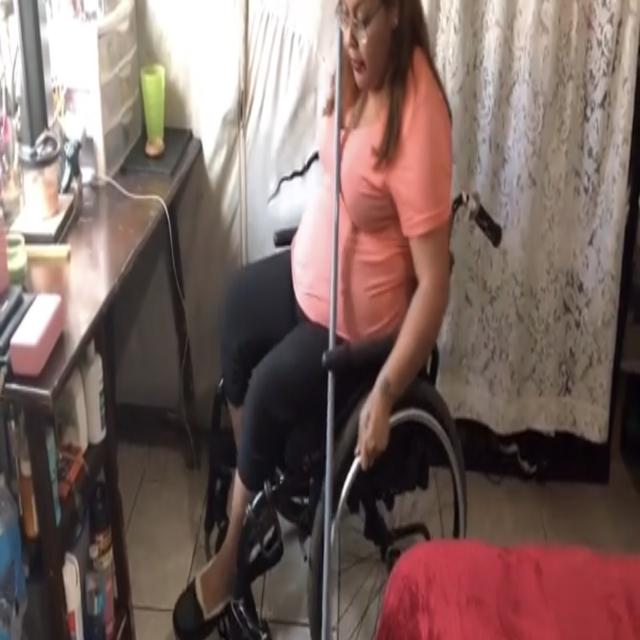wheelchairs: (202, 122, 502, 640)
